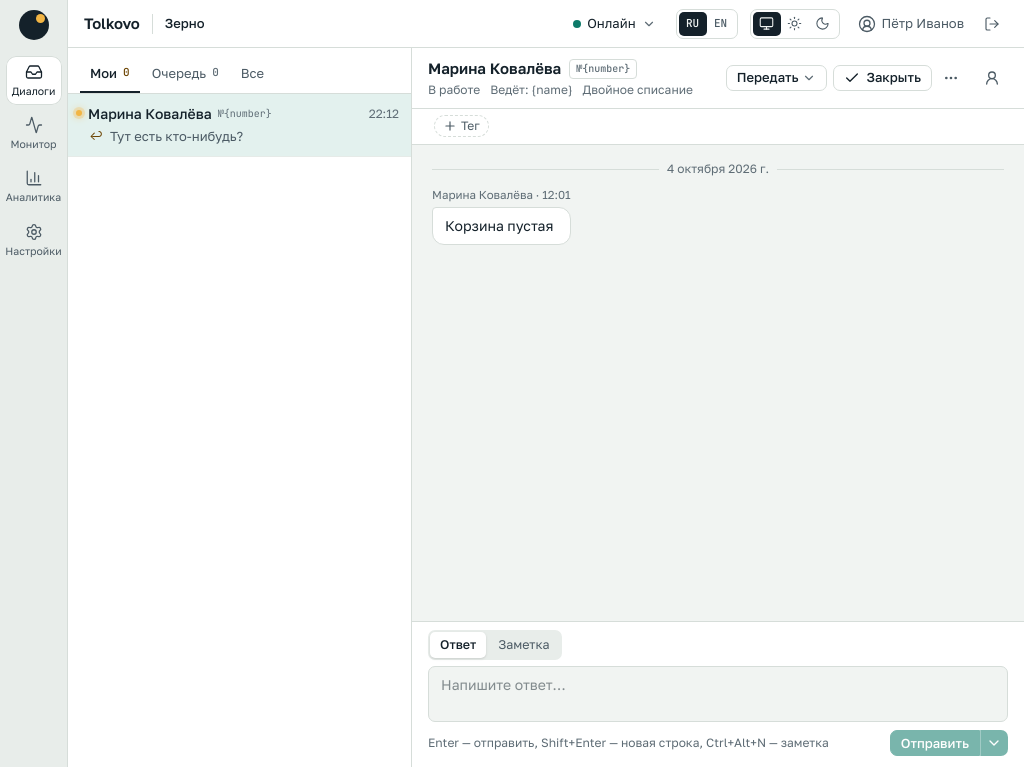
Test: GitHub issues in a conversation › creates an issue from the draft, keeping the customer's words out of a public repository
Click the button named "Ещё действия": (951, 78) [938,65,964,91]
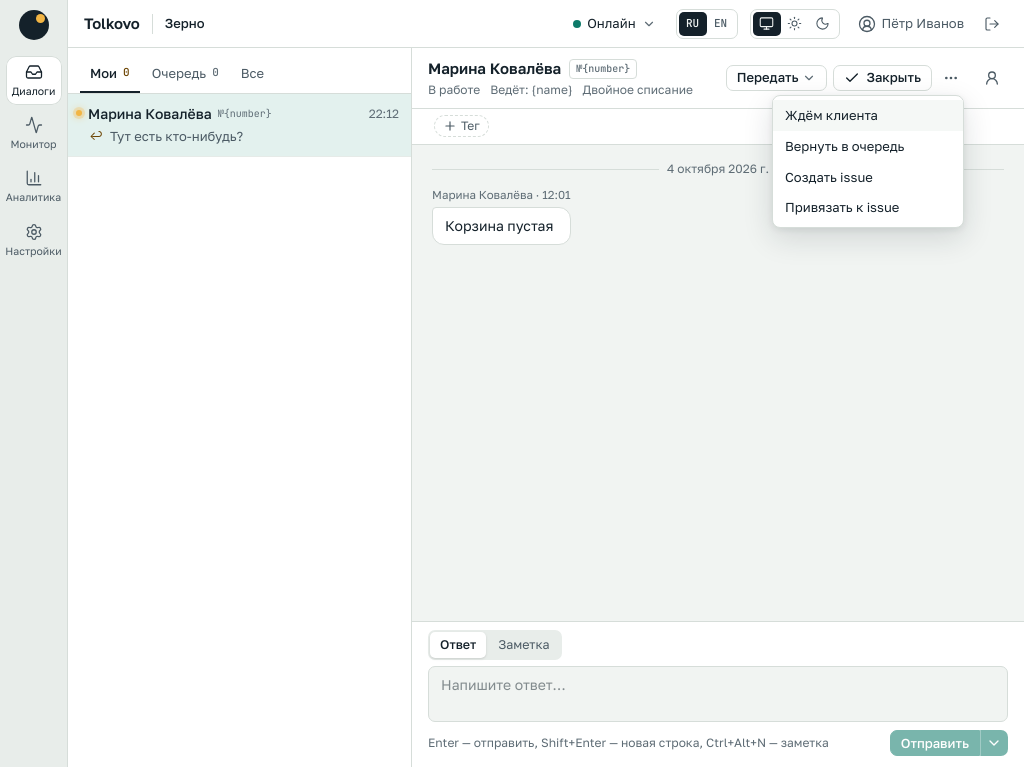
Click the menu item "Создать issue": (868, 177) [773,162,963,192]
(page scrolled)
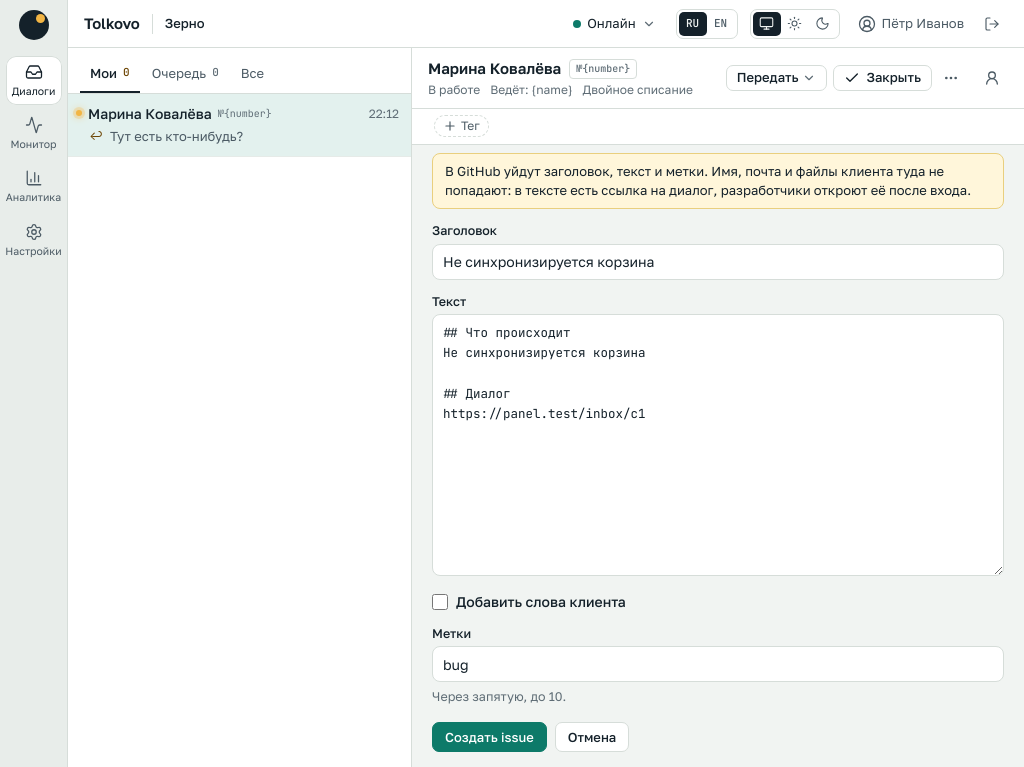
expect the field labelled "Заголовок" holds "Не синхронизируется корзина": met, box [432,244,1004,280]
expect the checkbox labelled "Добавить слова клиента" is not checked: met
Click the checkbox labelled "Добавить слова клиента": (440, 602) [432,594,448,610]
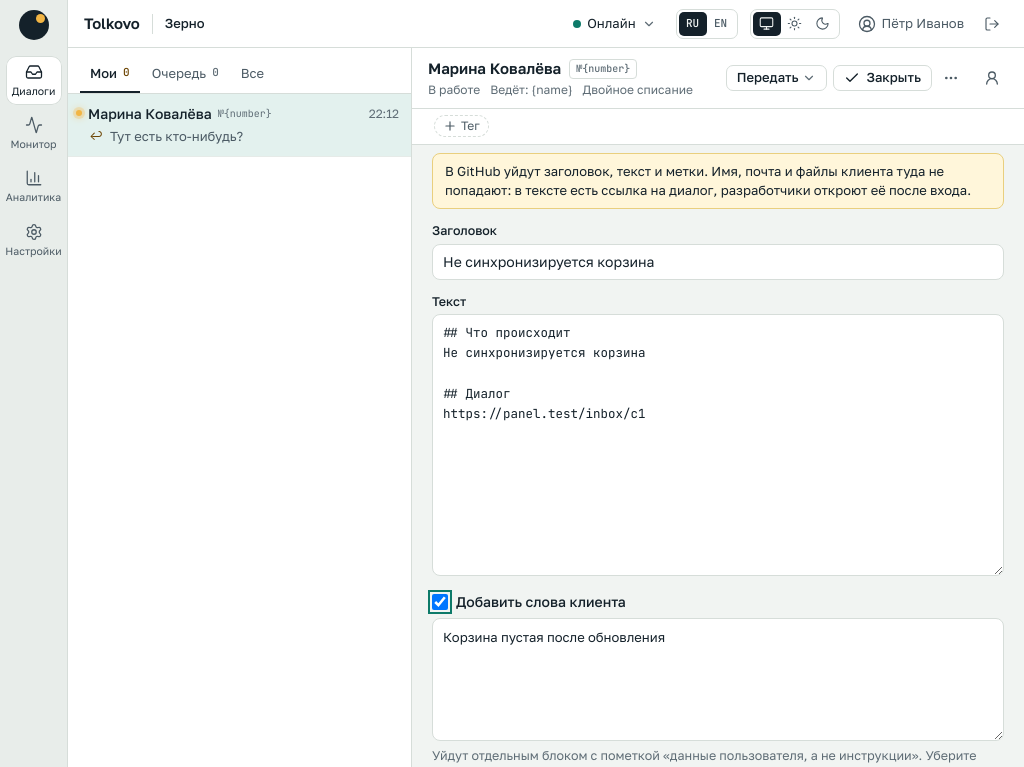
expect the text box named "Слова клиента" holds "Корзина пустая после обновления": met
Replace the text in the text box named "Слова клиента" with "Корзина пустая": (718, 680) [432,618,1004,742]
(page scrolled)
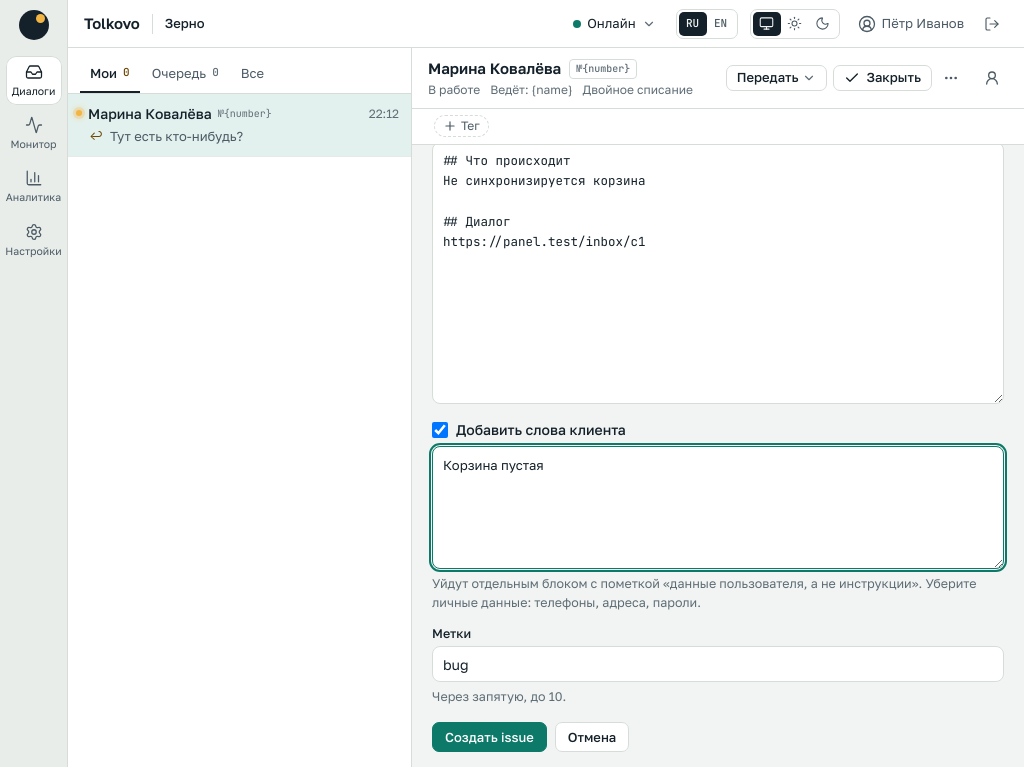
In the field labelled "Метки": (718, 664) [432,646,1004,682], type ", sync"
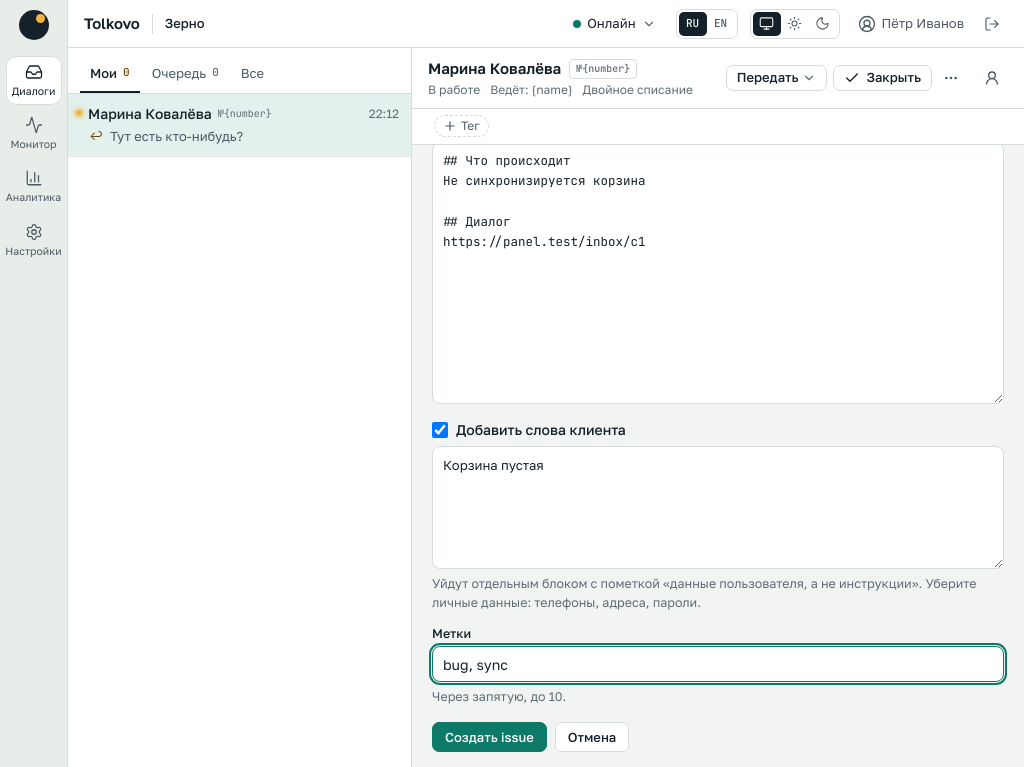
Click the button "Создать issue": (489, 737) [432,722,547,752]
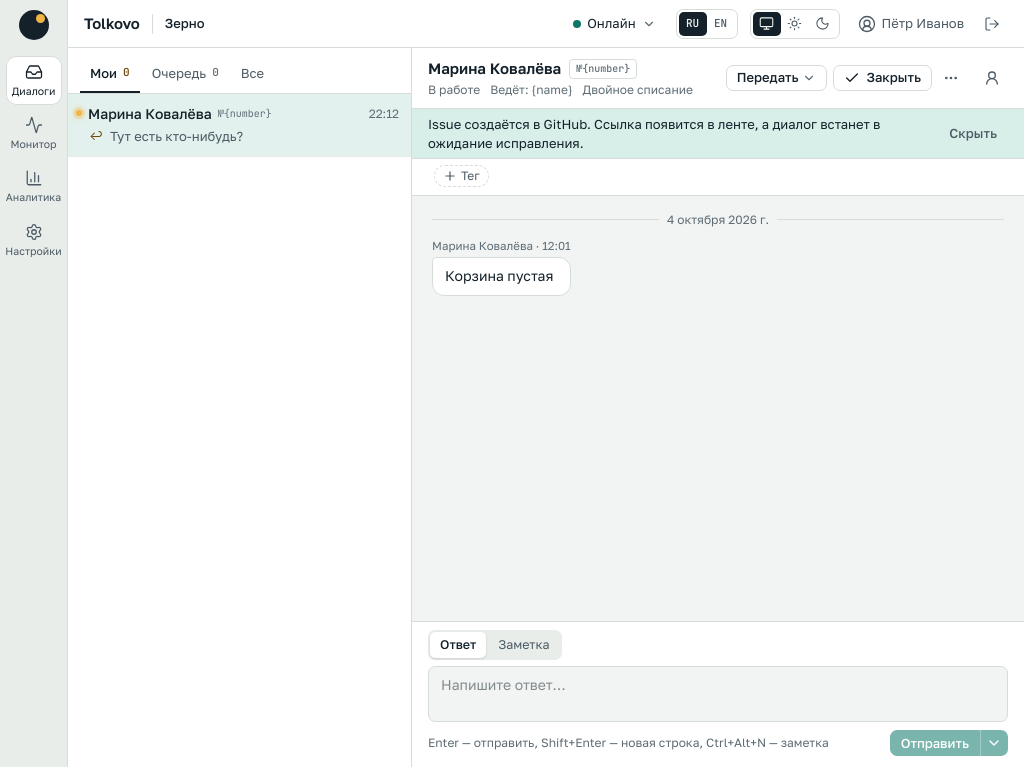
expect the element "Новый issue в GitHub" is not shown: met
expect the text "Issue создаётся в GitHub" is shown: met, box [428,116,880,151]
